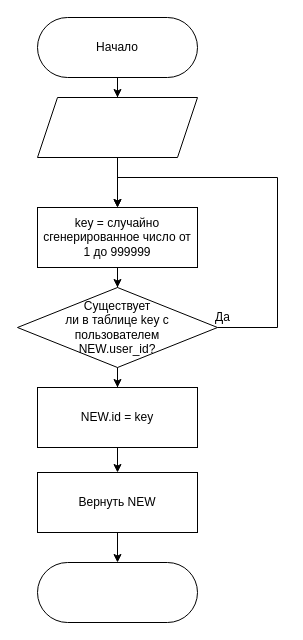
The diagram is 303 pixels wide and 640 high, and some of its shapes have lost their labels. The shapes that lost their labels are listed below. From the top down, each one's centre as x and y in pixels, then its label:
At [117,127]: "NEW - строка, вставляемая в таблицу".
At [117,592]: "Конец".
